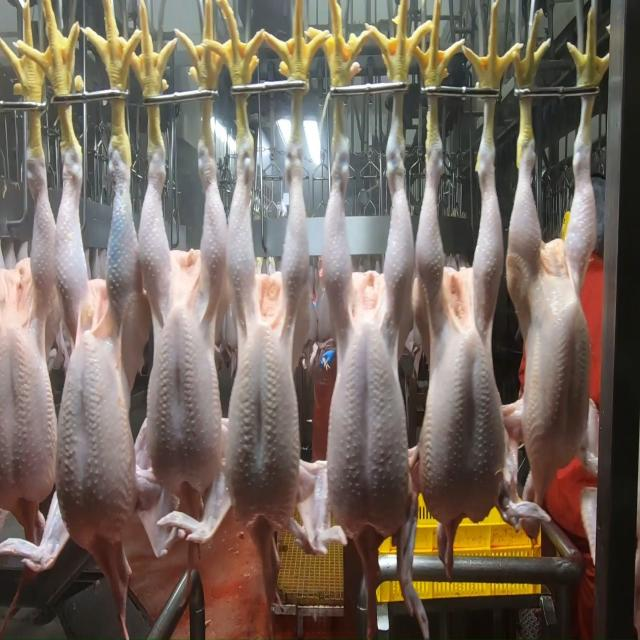chicken: (315, 171, 416, 545), (221, 159, 316, 543), (132, 158, 230, 500), (415, 168, 502, 546), (58, 151, 140, 549), (503, 159, 596, 474), (0, 157, 60, 509)
